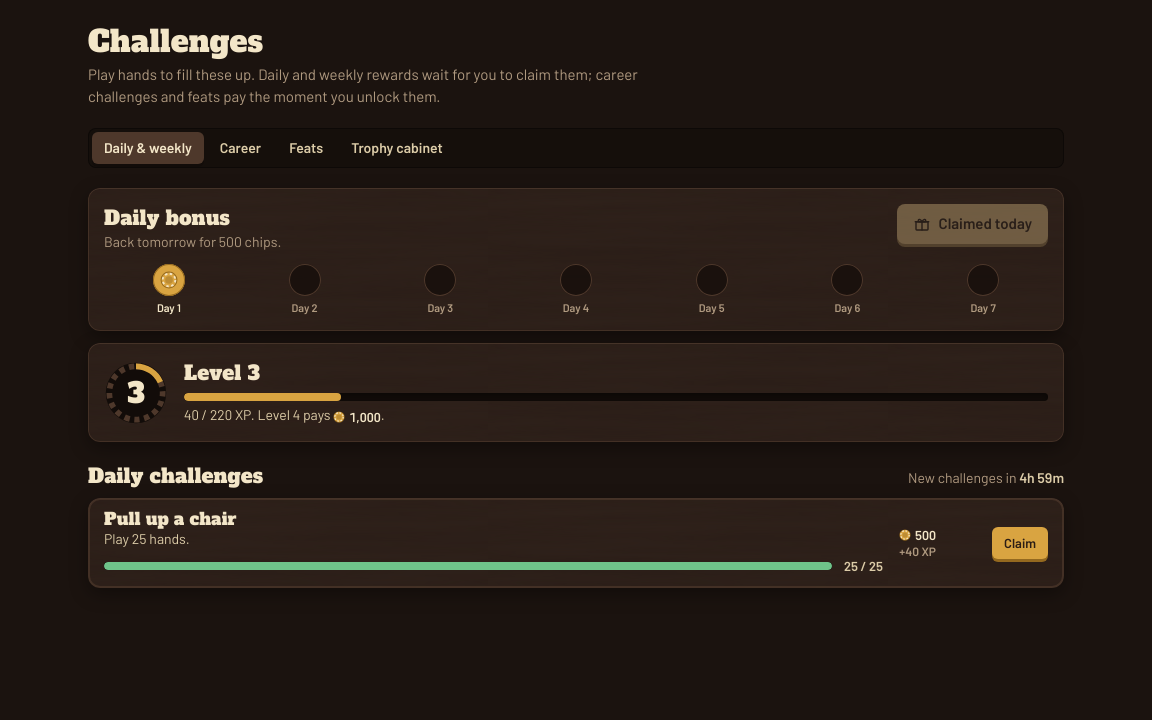
Test: ChallengesScreen › reports a refused claim
The width and height of the screenshot is (1152, 720).
Click the button with aria-label "Claim Pull up a chair". click: (1020,543)
box: [992,527,1048,559]
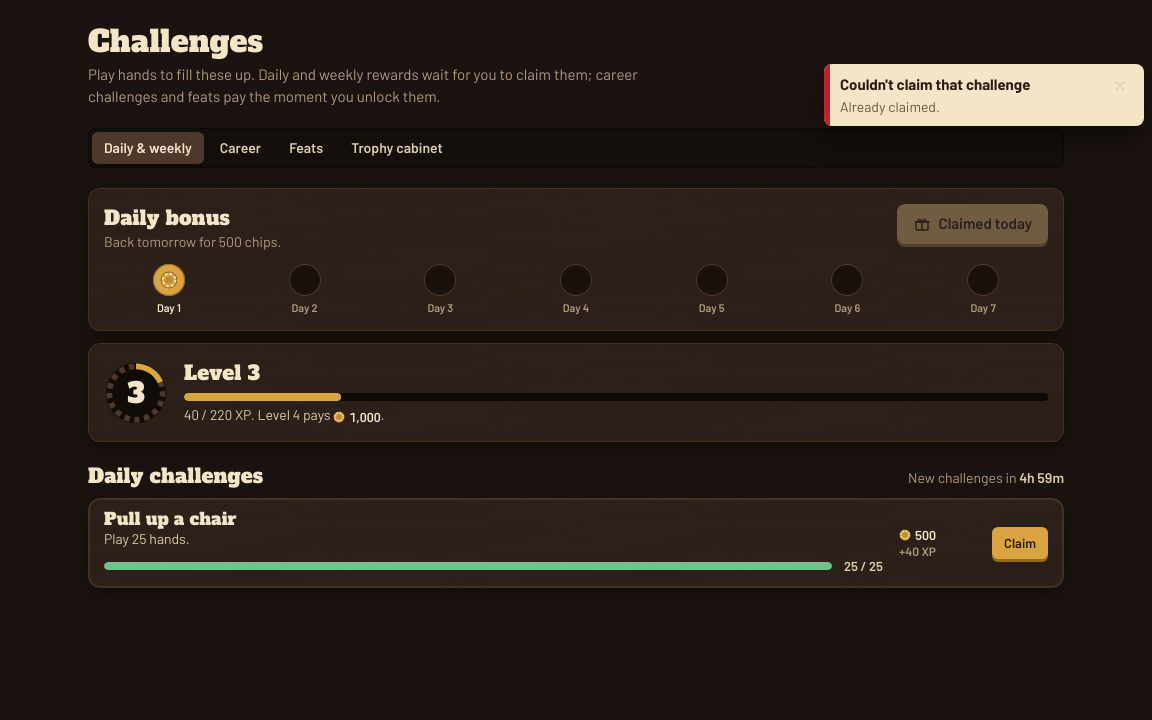
Now the text "Couldn't claim that challenge" is shown, box [840,75,1030,93]
Now the text "Already claimed." is shown, box [840,98,940,115]
